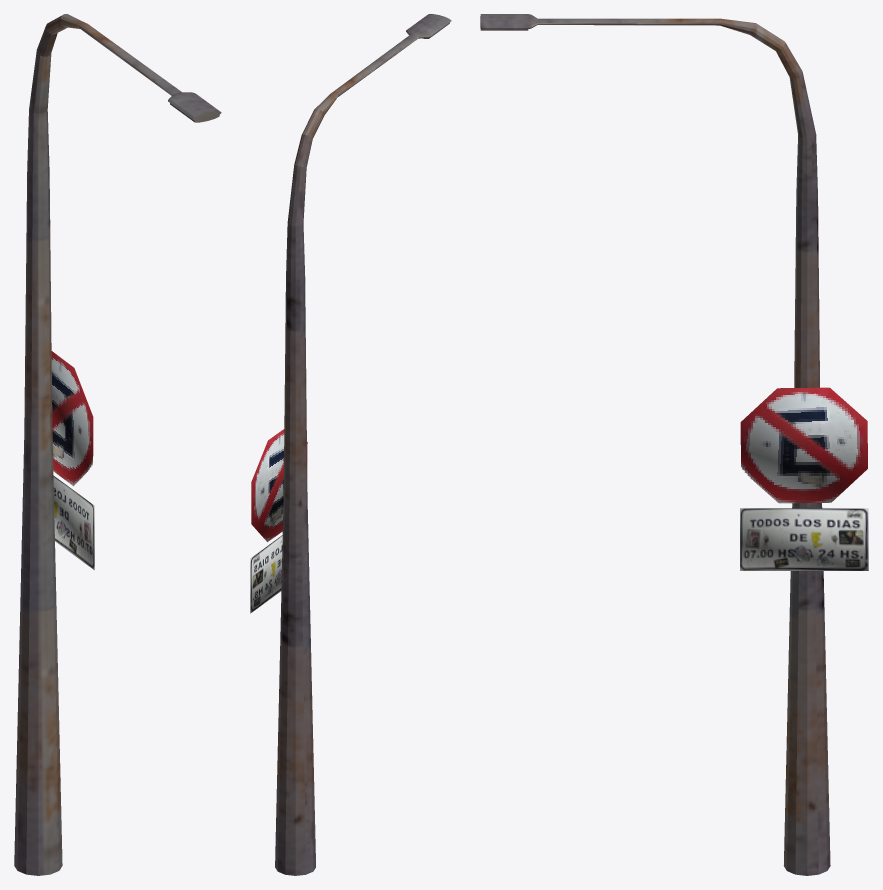
File: postedeluz_02_withEmision.fbx
3 renders of one model, left to right at view 1: azimuth 30°, elevation 25°; view 2: azimuth 150°, elevation 25°; view 3: azimuth 270°, elevation 25°, orthographic. The views are drawn at different scales.
Parts seen in each view (by area): view 1: Farol_Calle.002, Cartel_No ESTACIONAR .002, Cartel_Horario.001; view 2: Farol_Calle.002, Cartel_No ESTACIONAR .002, Cartel_Horario.001; view 3: Farol_Calle.002, Cartel_No ESTACIONAR .002, Cartel_Horario.001.
Part boxes in pixels (box(x1,y1,x2,y2)): Farol_Calle.002: box(14, 14, 221, 875); Cartel_No ESTACIONAR .002: box(51, 351, 93, 486); Cartel_Horario.001: box(53, 475, 94, 569); Farol_Calle.002: box(275, 14, 451, 875); Cartel_No ESTACIONAR .002: box(251, 429, 307, 541); Cartel_Horario.001: box(250, 535, 282, 613); Farol_Calle.002: box(480, 14, 830, 875); Cartel_No ESTACIONAR .002: box(740, 387, 867, 503); Cartel_Horario.001: box(740, 508, 868, 570).
Size of the model in its own units: 3.46 by 68.42 by 28.39.
Materials: 4 (3 with a texture image).
